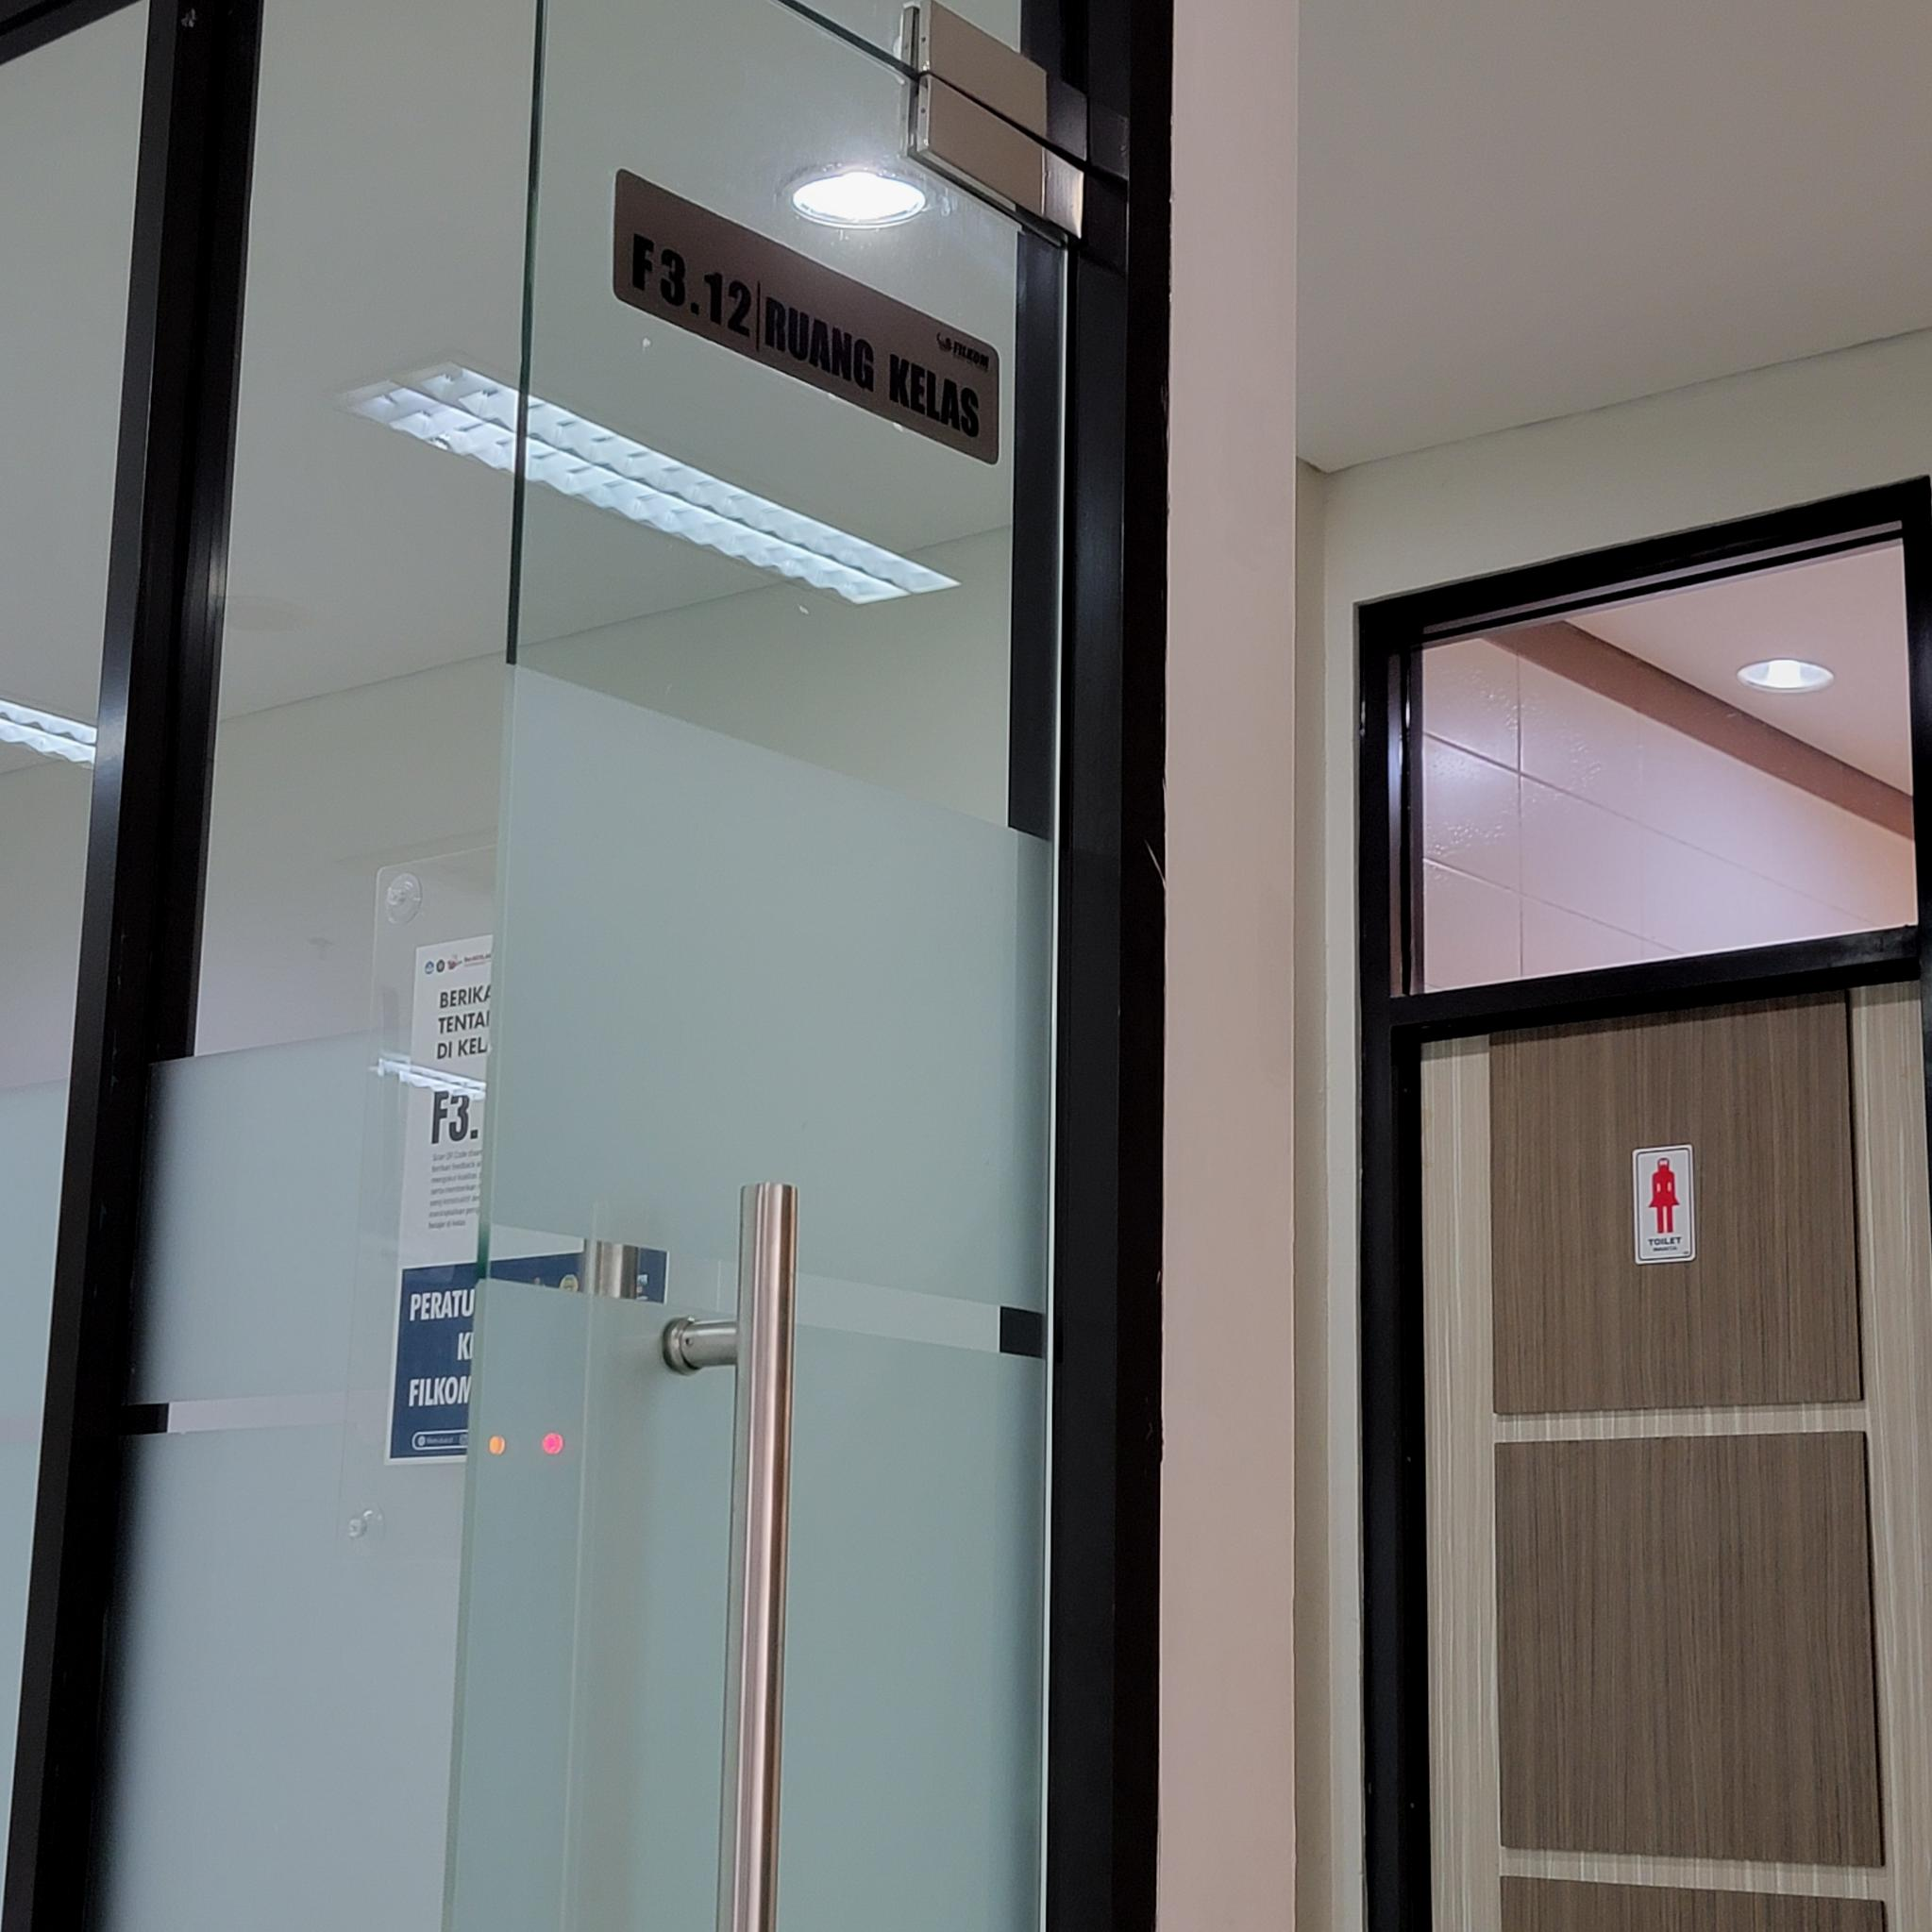plate: (614, 163, 1000, 469)
